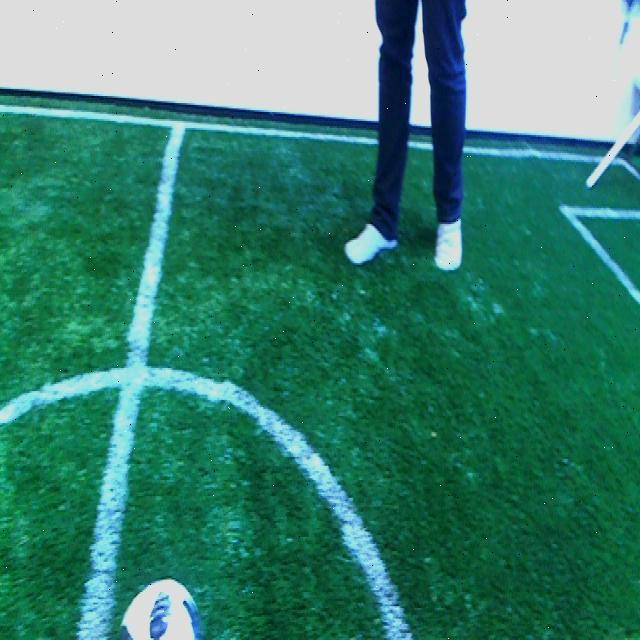ball: (114, 578, 210, 638)
